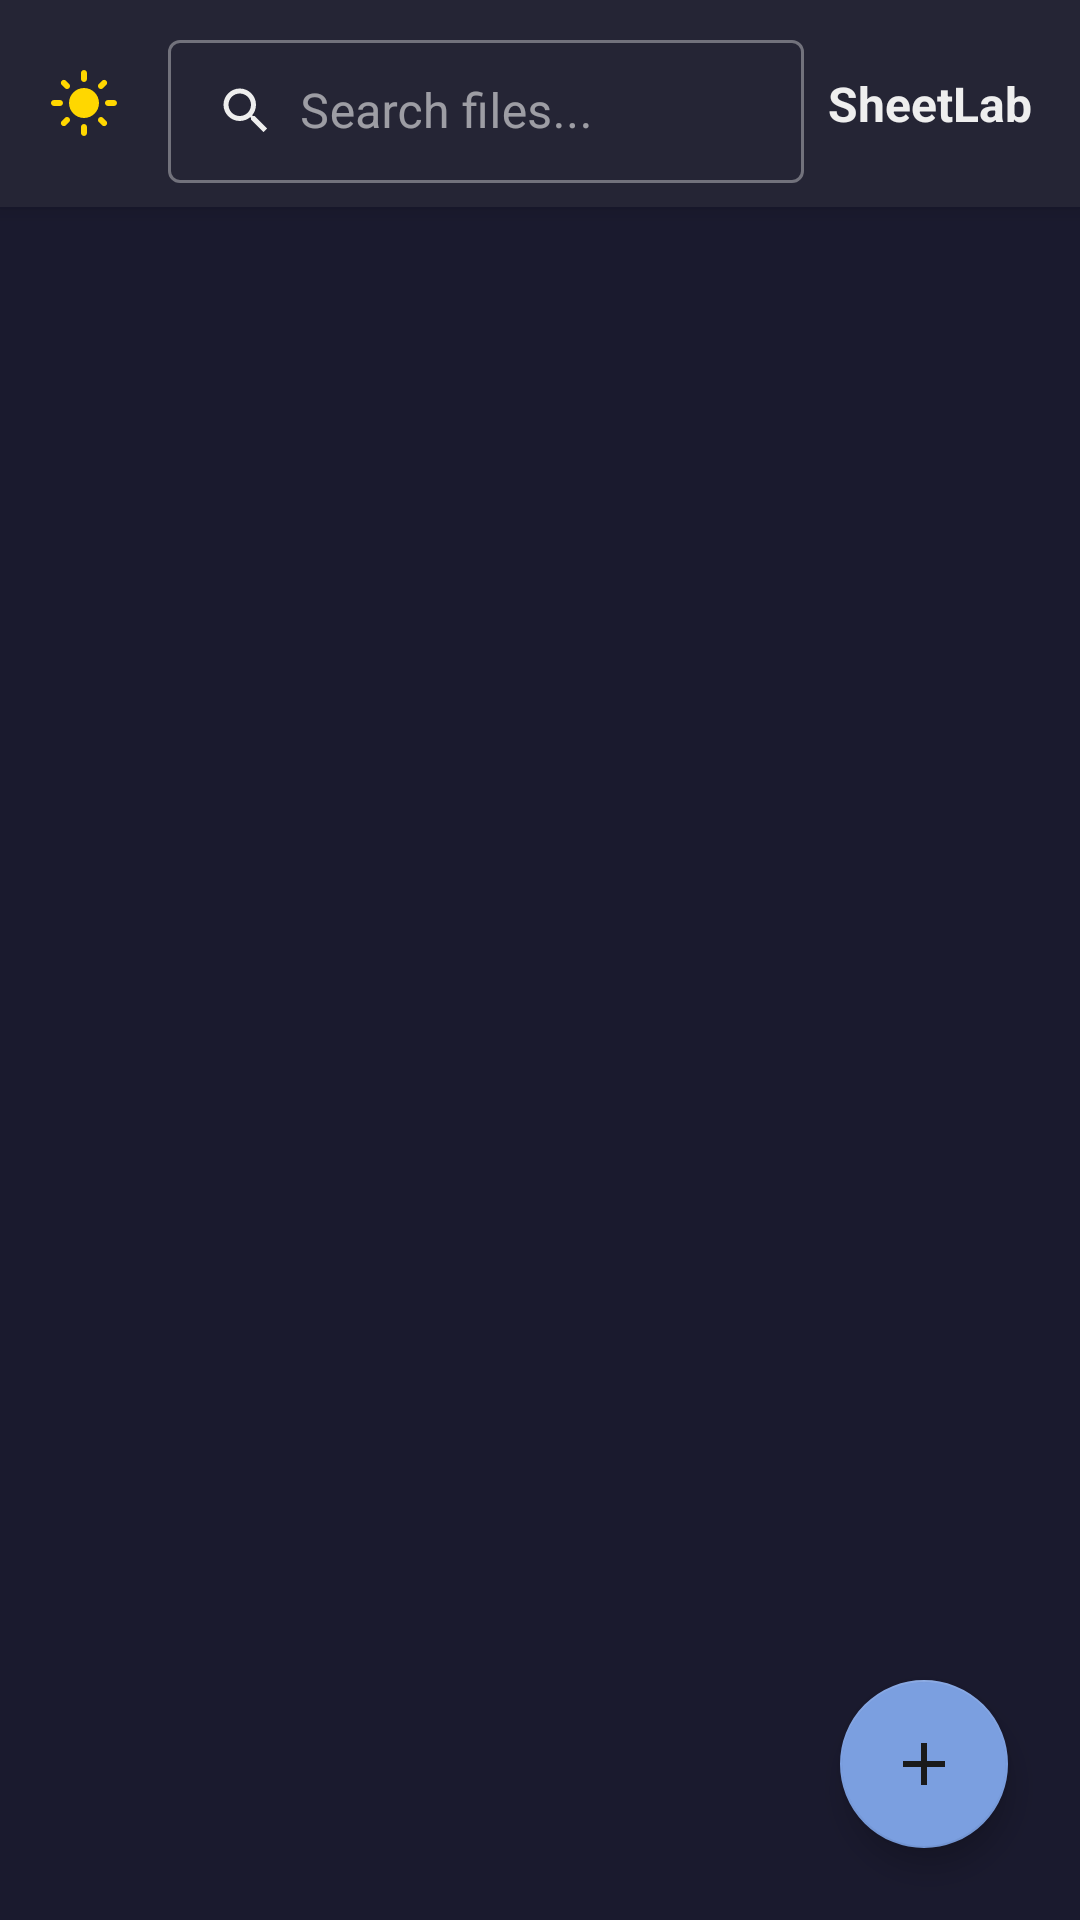

Where icons sit on this 1080*1920 app screen, as (left=x1, top=y1, right=x2, bottom=y2):
New Sheet: (left=840, top=1680, right=1008, bottom=1848)
Toggle Theme: (left=51, top=70, right=117, bottom=136)
